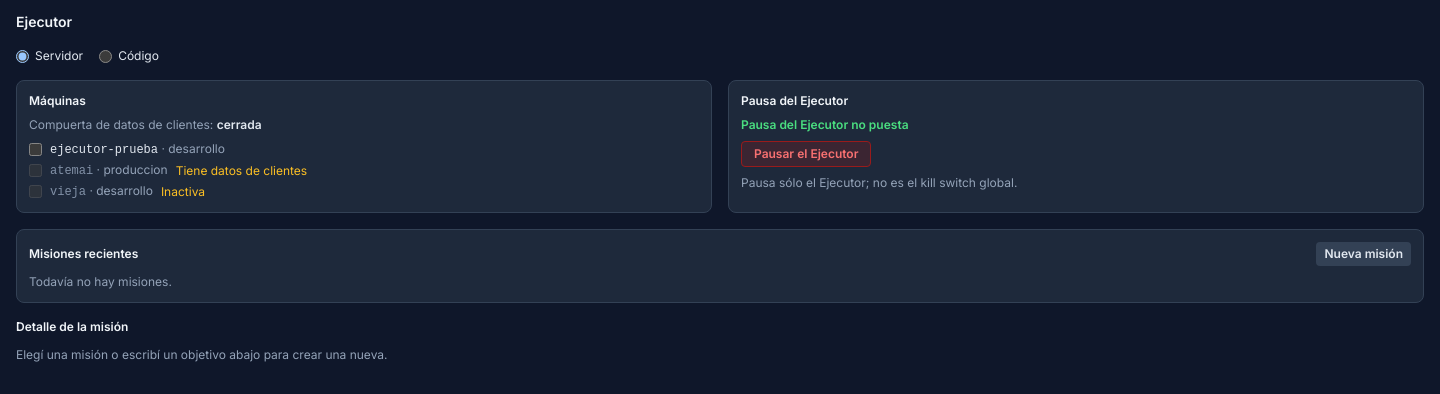
Scenario: Ejecutor -- pausa del Ejecutor › un 503 al poner la pausa se muestra traducido
Click the button "Pausar el Ejecutor" at coordinates (806, 154), box x1=741 y1=141 x2=871 y2=167
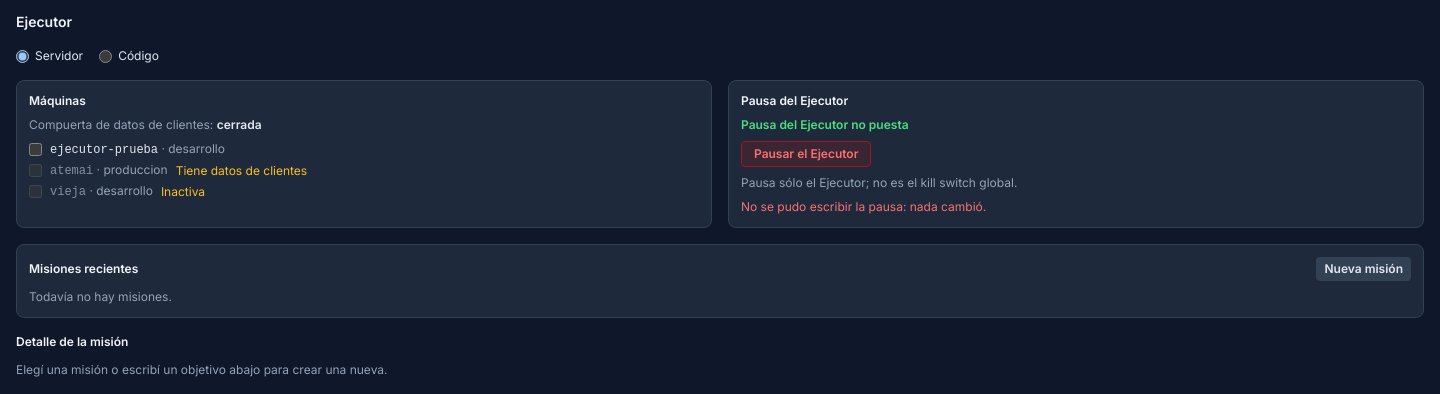
Now the message reads "No se pudo escribir la pausa: nada cambió.", box x1=741 y1=199 x2=986 y2=214
